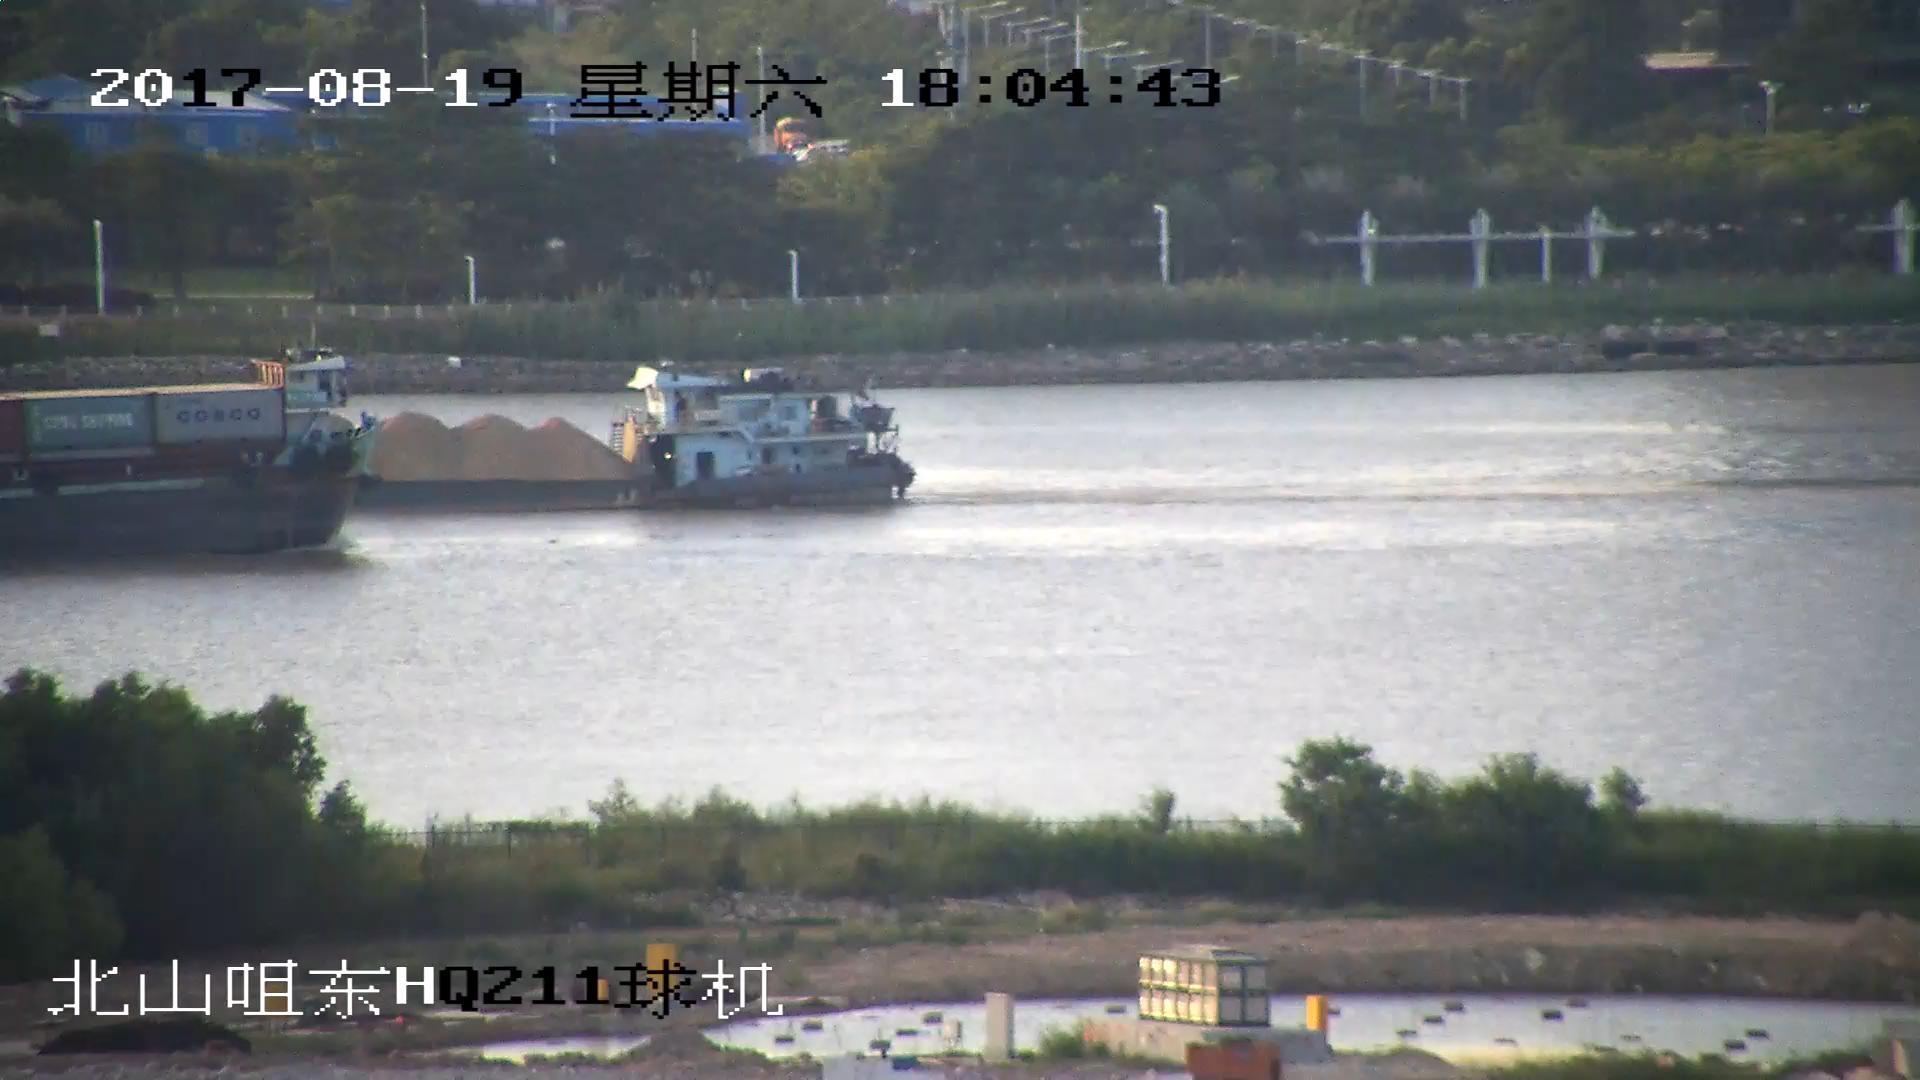Ship: (281, 367, 915, 512), (3, 339, 375, 562)
